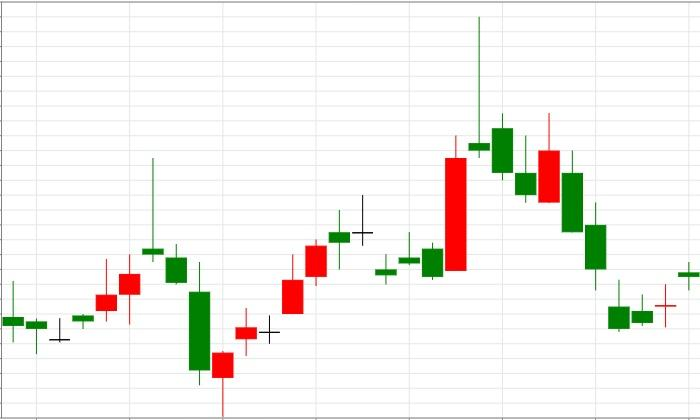evening_star_fall: (49, 157, 186, 343)
